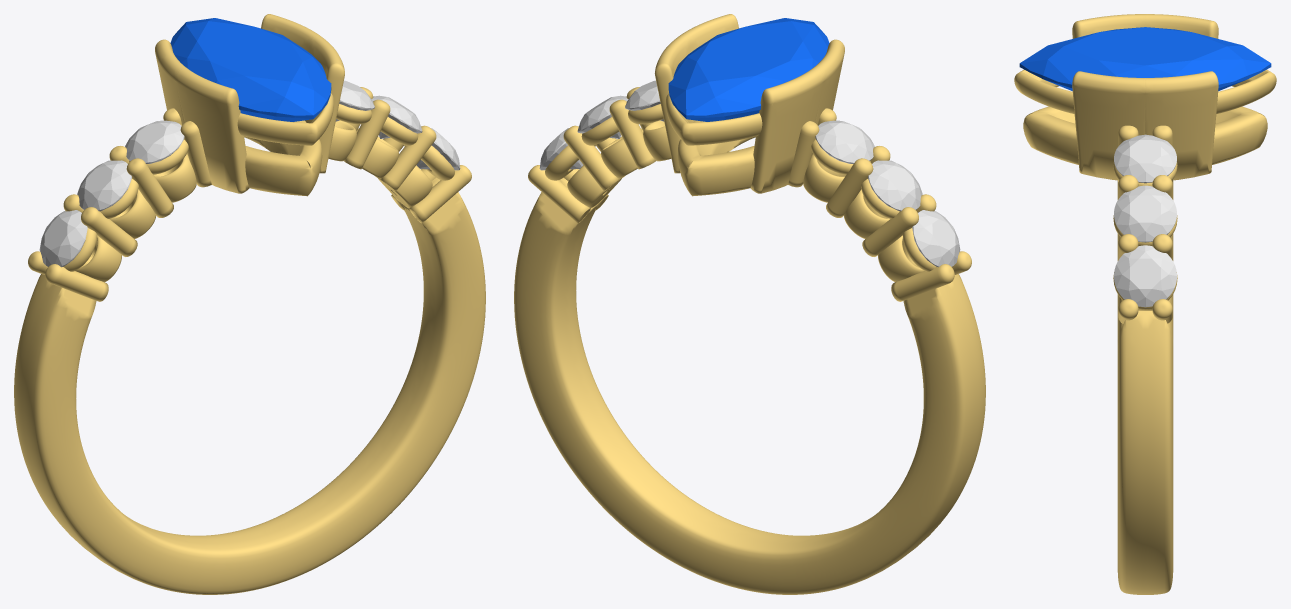
Rendered from bluesapphire-marquise-yellowgold-halfmoonbezel-straightband-7stone.glb.
3 renders of one model, left to right at view 1: azimuth 30°, elevation 25°; view 2: azimuth 150°, elevation 25°; view 3: azimuth 270°, elevation 25°, orthographic.
Parts seen in each view (by area): view 1: metal.003, stone.001, dia.002, dia.015, dia.016, dia.018, dia.019; view 2: metal.003, stone.001, dia.002, dia.015, dia.016, dia.018, dia.019; view 3: metal.003, stone.001, dia.017, dia.018, dia.019.
Part boxes in pixels (left/top/right/bottom): metal.003: left=14, top=14, right=485, bottom=594; stone.001: left=170, top=18, right=331, bottom=121; dia.002: left=39, top=210, right=87, bottom=267; dia.015: left=77, top=160, right=131, bottom=211; dia.016: left=125, top=120, right=184, bottom=163; dia.018: left=371, top=95, right=422, bottom=138; dia.019: left=335, top=80, right=374, bottom=121; metal.003: left=514, top=14, right=985, bottom=594; stone.001: left=668, top=18, right=829, bottom=121; dia.002: left=912, top=210, right=960, bottom=267; dia.015: left=868, top=160, right=922, bottom=211; dia.016: left=815, top=120, right=874, bottom=163; dia.018: left=577, top=95, right=628, bottom=138; dia.019: left=625, top=80, right=664, bottom=121; metal.003: left=1014, top=14, right=1276, bottom=594; stone.001: left=1019, top=27, right=1271, bottom=90; dia.017: left=1114, top=245, right=1176, bottom=307; dia.018: left=1114, top=185, right=1176, bottom=242; dia.019: left=1114, top=134, right=1176, bottom=183.
Size of the model in its own units: 20.5 by 22.94 by 10.4.
